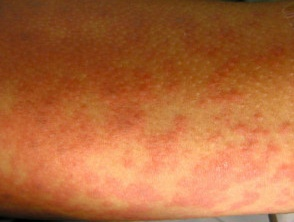SJS-TEN: (0, 53, 294, 222)
